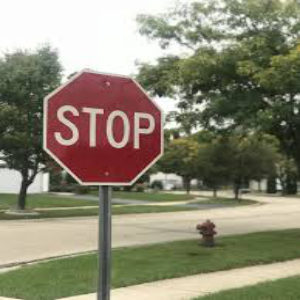STOP_SIGN: (42, 68, 163, 185)
